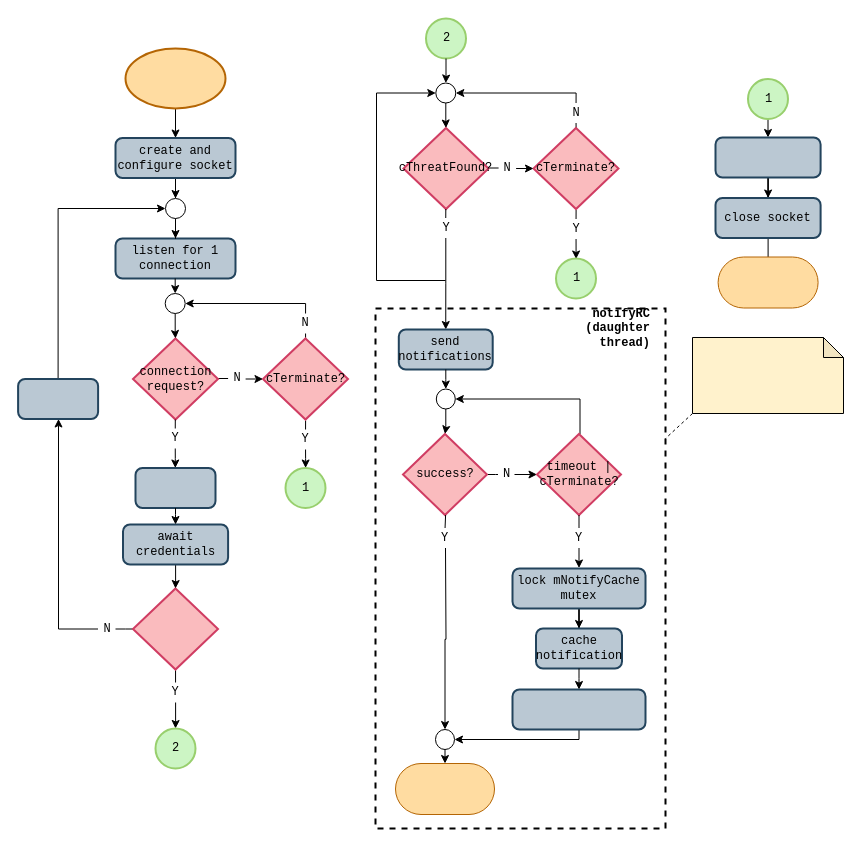
This 861x846 diagram has some shape labels left out. The centre of each missing label's shape, as x and y in pixels:
"accept" goes at pixel 175 487.
"close" goes at pixel 58 399.
"credentials match?" goes at pixel 175 628.
"Exit" goes at pixel 767 282.
"Multiple daughter threads can be running at the same time." goes at pixel 768 375.
"notifyRC: Exit" goes at pixel 444 788.
"shut socket down" goes at pixel 767 157.
"Start" goes at pixel 175 78.
"unlock mNotifyCache mutex" goes at pixel 578 709.
